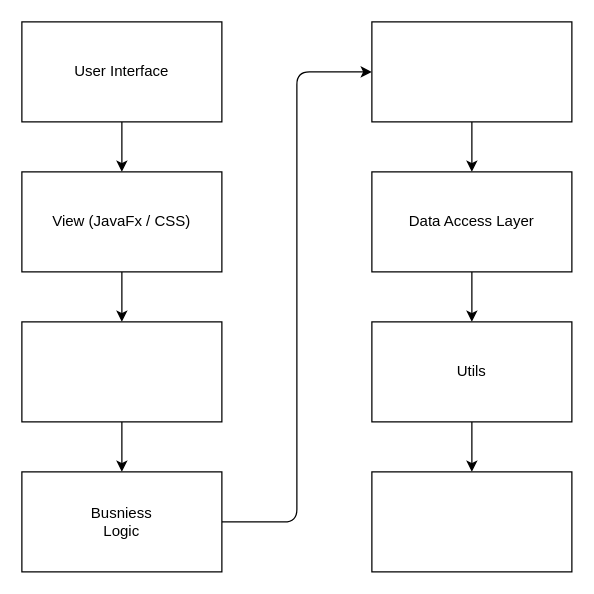
Image size: 594x594. Some labels were removed from this diagram. The shapes that lost their labels are listed below. From the top down, each one's centre as x and y in pixels, then its label:
At point 471,71: "Model (Entities)".
At point 121,371: "Controller (Java)".
At point 471,521: "Exception Handling".
